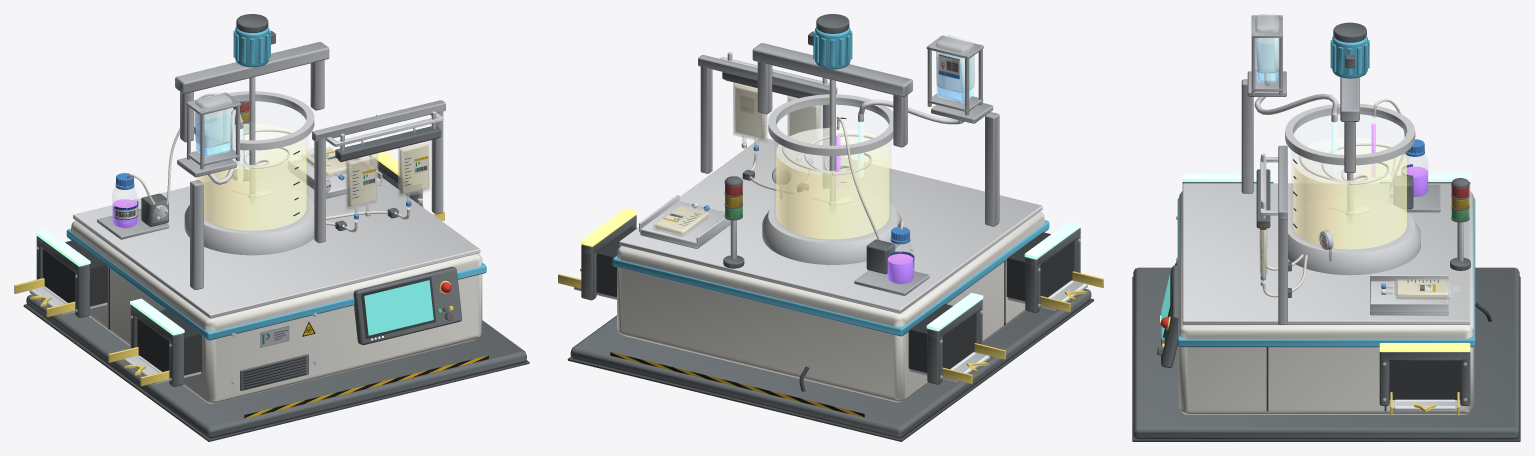
The model's file is mezcladora.glb.
3 renders of one model, left to right at view 1: azimuth 30°, elevation 25°; view 2: azimuth 150°, elevation 25°; view 3: azimuth 270°, elevation 25°, orthographic. The views are drawn at different scales.
Visible parts, largest first — view 1: mesa, armario, zocalo, mezcla, vaso_base, puente, pantalla, franja_familia, consola_cuerpo, boca_entrada0_hueco, boca_entrada1_hueco, zocalo_goma (+30 smaller); view 2: armario, mesa, zocalo, mezcla, vaso_base, franja_familia, puente, vaso_aro, boca_entrada1_hueco, boca_entrada0_hueco, zocalo_goma, cuna_columna (+31 smaller); view 3: mesa, zocalo, armario, mezcla, vaso_base, boca_salida_hueco, vaso_aro, franja_familia, zocalo_goma, cuna_columna, cuerpo, bandeja_salida (+26 smaller).
Boxes of the visible parts, left/top/right/bottom form: mesa: left=73, top=151, right=480, bottom=318; armario: left=71, top=220, right=482, bottom=403; zocalo: left=26, top=294, right=526, bottom=438; mezcla: left=198, top=123, right=306, bottom=230; vaso_base: left=184, top=182, right=314, bottom=255; puente: left=175, top=42, right=329, bottom=93; pantalla: left=364, top=280, right=433, bottom=335; franja_familia: left=66, top=229, right=486, bottom=340; consola_cuerpo: left=353, top=267, right=461, bottom=345; boca_entrada0_hueco: left=43, top=240, right=107, bottom=306; boca_entrada1_hueco: left=137, top=309, right=201, bottom=375; zocalo_goma: left=23, top=304, right=529, bottom=441; armario: left=617, top=211, right=1044, bottom=402; mesa: left=619, top=138, right=1042, bottom=313; zocalo: left=570, top=289, right=1091, bottom=438; mezcla: left=776, top=128, right=889, bottom=239; vaso_base: left=762, top=188, right=902, bottom=264; franja_familia: left=612, top=220, right=1049, bottom=336; puente: left=752, top=43, right=912, bottom=97; vaso_aro: left=768, top=94, right=893, bottom=155; boca_entrada1_hueco: left=1006, top=232, right=1073, bottom=301; boca_entrada0_hueco: left=908, top=304, right=975, bottom=372; zocalo_goma: left=567, top=298, right=1094, bottom=441; cuna_columna: left=985, top=112, right=999, bottom=226; mesa: left=1182, top=183, right=1470, bottom=324; zocalo: left=1133, top=267, right=1519, bottom=439; armario: left=1178, top=191, right=1474, bottom=414; mezcla: left=1293, top=137, right=1406, bottom=249; vaso_base: left=1288, top=198, right=1420, bottom=275; boca_salida_hueco: left=1389, top=361, right=1460, bottom=399; vaso_aro: left=1285, top=104, right=1415, bottom=165; franja_familia: left=1177, top=198, right=1475, bottom=347; zocalo_goma: left=1132, top=276, right=1520, bottom=441; cuna_columna: left=1241, top=79, right=1253, bottom=193; cuerpo: left=1255, top=14, right=1279, bottom=73; bandeja_salida: left=1370, top=281, right=1448, bottom=315.
Size of the model in its own units: 2.44 by 1.87 by 1.97.
Materials: 54 (6 with a texture image).
